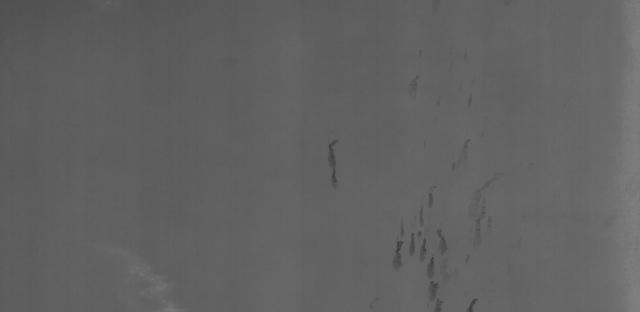water_spot: (389, 201, 450, 284), (462, 163, 503, 236), (312, 128, 346, 194), (425, 277, 455, 311)
